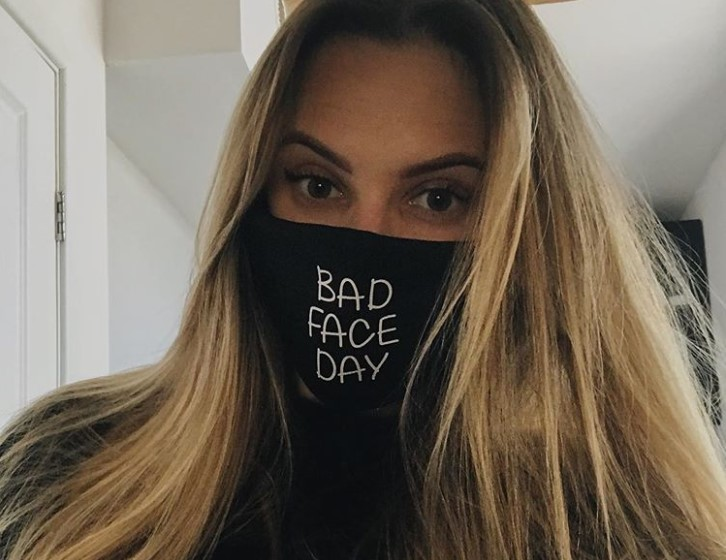face_with_mask: (253, 8, 549, 427)
